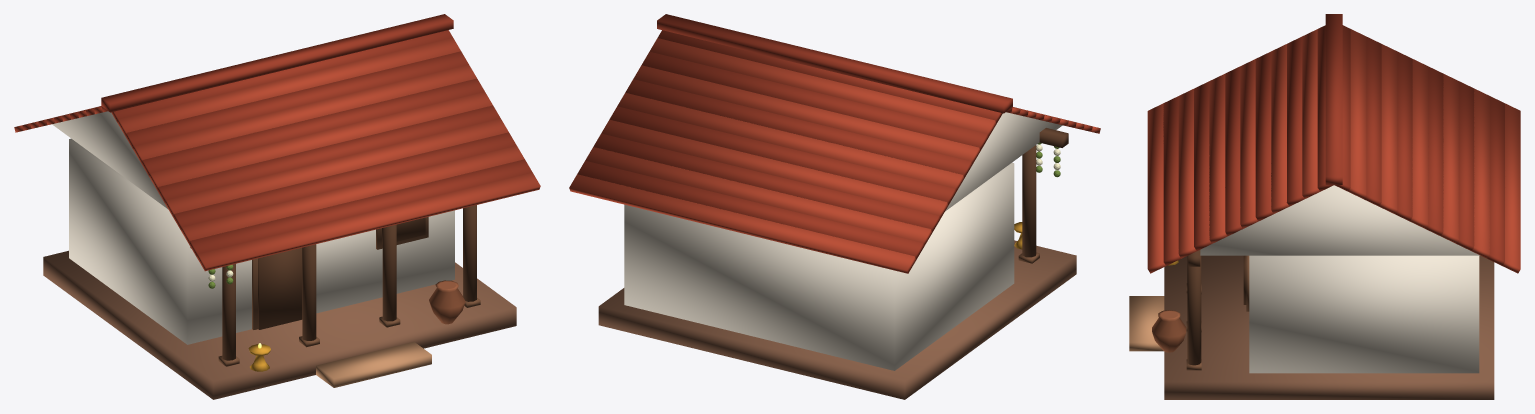
Rendered from hut_village.glb.
3 views of the same model, side by side, from view 1: azimuth 30°, elevation 25°; view 2: azimuth 150°, elevation 25°; view 3: azimuth 270°, elevation 25° (orthographic). The views are drawn at different scales.
Visible parts, largest first — view 1: main__hut_tile_b, main__hut_tile_a, main__hut_wall_white, main__hut_plinth_stone, main__hut_wood_dark, main__hut_step_stone, main__hut_wood_mid, main__hut_clay_pot; view 2: main__hut_wall_white, main__hut_tile_b, main__hut_tile_a, main__hut_plinth_stone, main__hut_wood_dark; view 3: main__hut_wall_white, main__hut_tile_a, main__hut_tile_b, main__hut_plinth_stone, main__hut_wood_dark, main__hut_step_stone, main__hut_clay_pot, main__hut_wood_mid.
Part boxes in pixels (x1,y1,x2,y2): main__hut_tile_b: [22, 14, 532, 257]; main__hut_tile_a: [14, 38, 540, 271]; main__hut_wall_white: [52, 111, 454, 344]; main__hut_plinth_stone: [43, 250, 516, 399]; main__hut_wood_dark: [190, 205, 476, 360]; main__hut_step_stone: [316, 342, 431, 387]; main__hut_wood_mid: [218, 217, 480, 366]; main__hut_clay_pot: [429, 280, 465, 324]; main__hut_wall_white: [624, 112, 1062, 370]; main__hut_tile_b: [577, 14, 1092, 259]; main__hut_tile_a: [569, 38, 1100, 273]; main__hut_plinth_stone: [598, 240, 1076, 399]; main__hut_wood_dark: [1022, 128, 1068, 257]; main__hut_wall_white: [1200, 185, 1479, 373]; main__hut_tile_a: [1147, 29, 1520, 273]; main__hut_tile_b: [1163, 14, 1504, 265]; main__hut_plinth_stone: [1164, 255, 1494, 399]; main__hut_wood_dark: [1187, 250, 1246, 365]; main__hut_step_stone: [1129, 296, 1164, 351]; main__hut_clay_pot: [1152, 310, 1186, 352]; main__hut_wood_mid: [1186, 255, 1249, 370].
Bounding box in the file's own units: 7.7 × 5.14 × 7.83.
